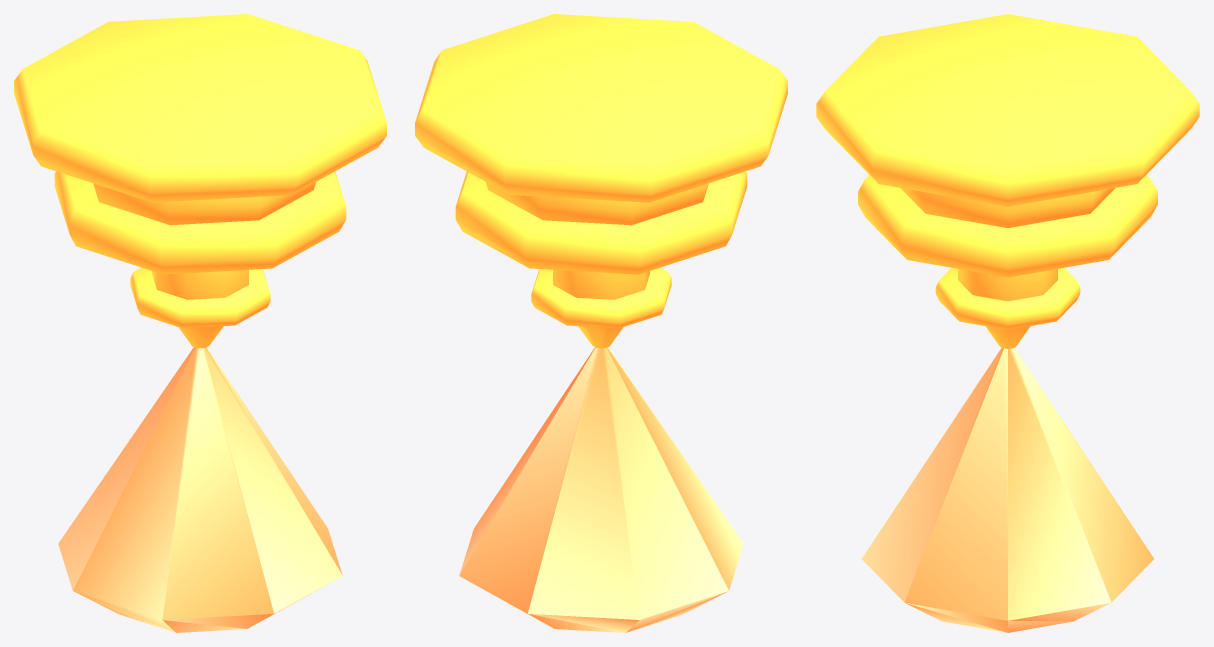
The model's file is gold_pommel_071.glb.
The picture shows the model from 3 angles, left to right: view 1: azimuth 30°, elevation 25°; view 2: azimuth 150°, elevation 25°; view 3: azimuth 270°, elevation 25°; orthographic projection.
Parts seen in each view (by area): view 1: gold_pommel_071; view 2: gold_pommel_071; view 3: gold_pommel_071.
Boxes of the visible parts, box(x1,y1,x2,y2) form: gold_pommel_071: box(14, 14, 386, 632); gold_pommel_071: box(415, 14, 787, 632); gold_pommel_071: box(816, 14, 1199, 632).
Bounding box in the file's own units: 1.76 × 2.54 × 1.76.
1 material, 1 textured.
